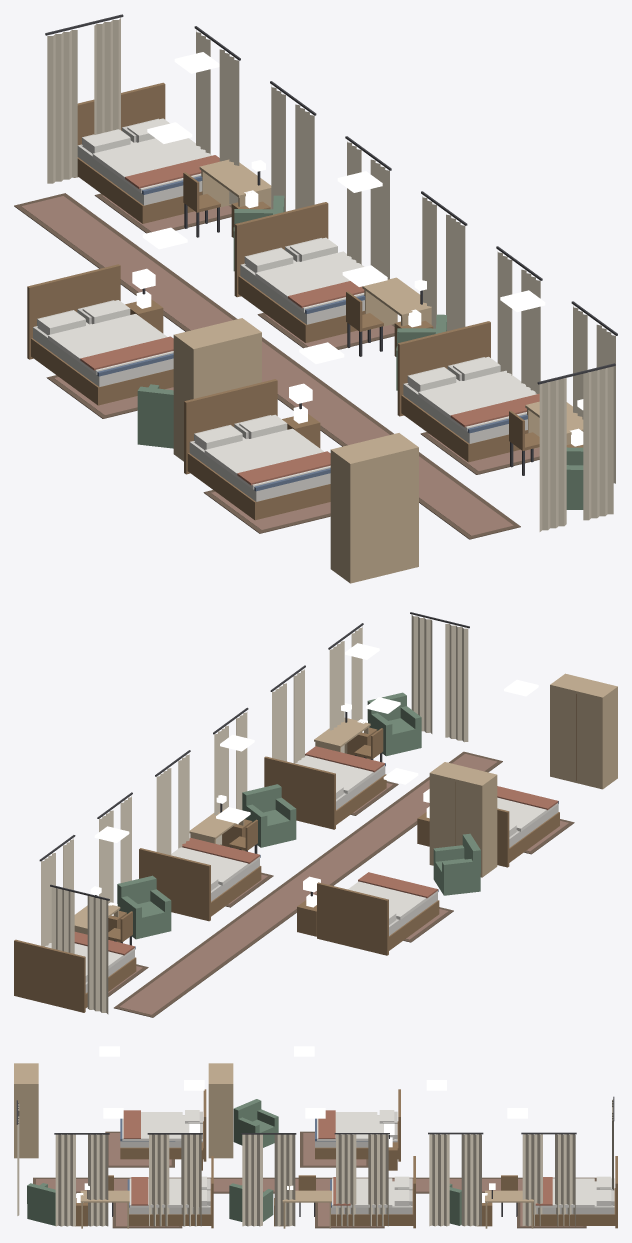
File: fine-s2.glb
3 renders of one model, top to bottom at view 1: azimuth 30°, elevation 25°; view 2: azimuth 150°, elevation 25°; view 3: azimuth 270°, elevation 25°, orthographic. The views are drawn at different scales.
Parts seen in each view (by area): view 1: soft-s2, dresser.003, bed-frame.006, bed-frame.005, bed-frame.008, bed-frame.009, dresser.002, bed-frame.007, writing-desk.003, writing-desk.004, lounge-chair.004, cafe-chair.004 (+6 smaller); view 2: soft-s2, dresser.003, dresser.002, bed-frame.005, bed-frame.007, bed-frame.009, bed-frame.008, lounge-chair.005, lounge-chair.006, lounge-chair.004, lounge-chair.007, bed-frame.006 (+4 smaller); view 3: soft-s2, dresser.002, dresser.003, bed-frame.007, bed-frame.008, bed-frame.009, lounge-chair.004, bed-frame.006, lounge-chair.007, bed-frame.005, lounge-chair.006, writing-desk.003 (+8 smaller).
Part boxes in pixels (box(x1,y1,x2,y2)): soft-s2: box(14, 14, 617, 539); dresser.003: box(330, 433, 418, 583); bed-frame.006: box(184, 379, 330, 520); bed-frame.005: box(27, 264, 173, 405); bed-frame.008: box(234, 202, 365, 342); bed-frame.009: box(397, 321, 527, 462); dresser.002: box(173, 318, 261, 461); bed-frame.007: box(74, 82, 202, 223); writing-desk.003: box(199, 159, 271, 211); writing-desk.004: box(362, 277, 431, 330); lounge-chair.004: box(137, 384, 173, 448); cafe-chair.004: box(346, 291, 383, 356); soft-s2: box(39, 612, 574, 1017); dresser.003: box(550, 673, 617, 789); dresser.002: box(429, 762, 497, 877); bed-frame.005: box(317, 882, 439, 955); bed-frame.007: box(14, 939, 136, 1012); bed-frame.009: box(264, 756, 386, 829); bed-frame.008: box(139, 848, 261, 921); lounge-chair.005: box(117, 875, 171, 939); lounge-chair.006: box(242, 784, 296, 847); lounge-chair.004: box(433, 833, 480, 895); lounge-chair.007: box(367, 692, 421, 756); bed-frame.006: box(497, 801, 559, 867); soft-s2: box(16, 1096, 614, 1228); dresser.002: box(208, 1063, 233, 1158); dresser.003: box(14, 1063, 38, 1158); bed-frame.007: box(533, 1156, 617, 1228); bed-frame.008: box(330, 1156, 415, 1228); bed-frame.009: box(127, 1156, 213, 1228); lounge-chair.004: box(233, 1099, 278, 1147); bed-frame.006: box(120, 1089, 206, 1161); lounge-chair.007: box(27, 1183, 55, 1225); bed-frame.005: box(315, 1089, 400, 1161); lounge-chair.006: box(229, 1183, 273, 1225); writing-desk.003: box(485, 1183, 533, 1228).
Bounding box in the file's own units: 5.59 × 2.74 × 14.75.
